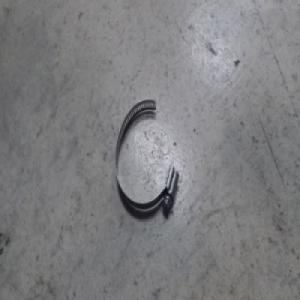AdjustableClamp: (115, 95, 180, 219)
